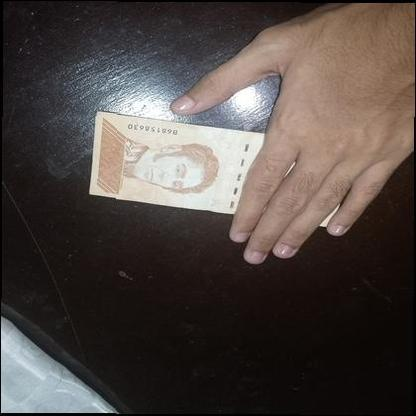vef_front: (89, 111, 339, 228)
